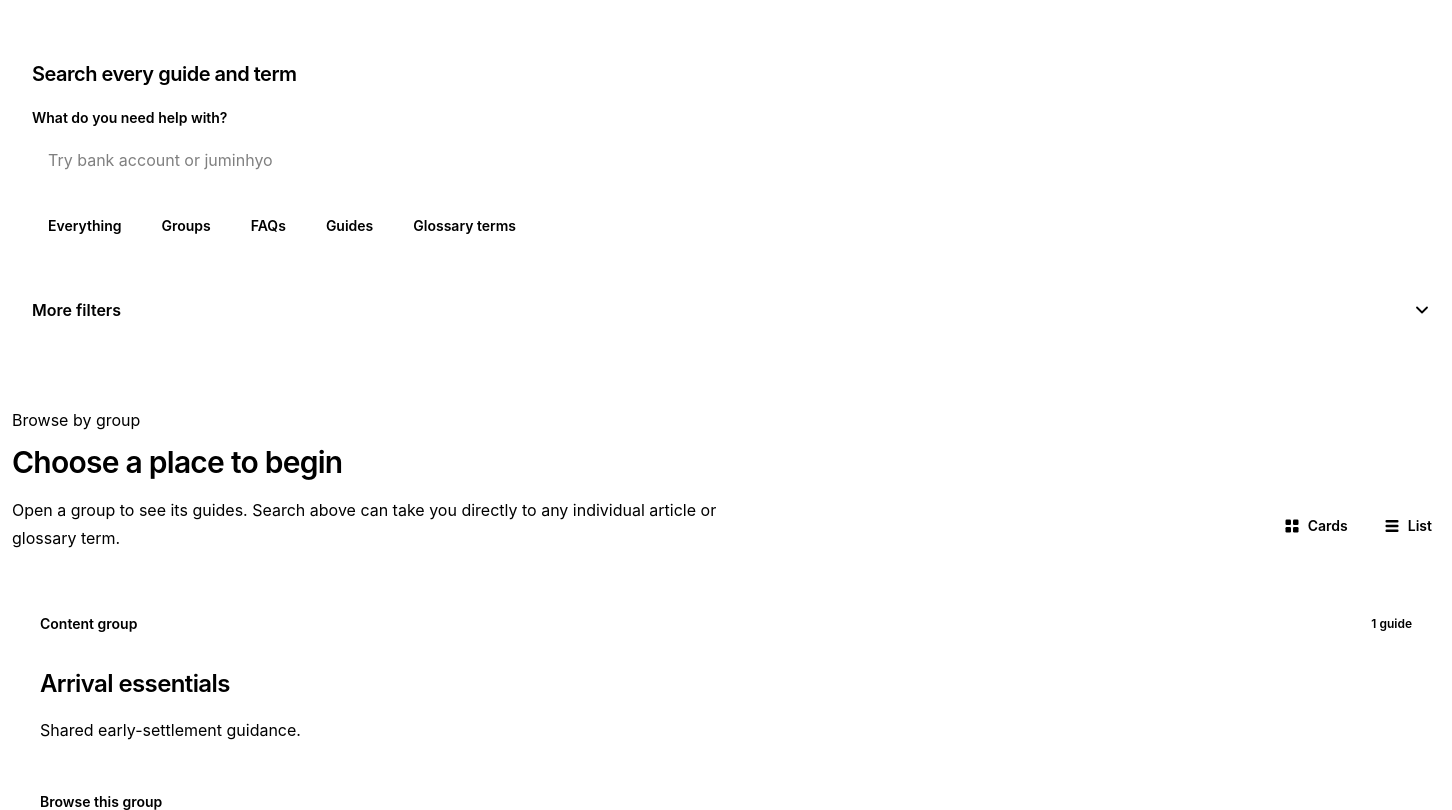
ExploreDiscovery › keeps the view toggle available when a search has no results
This screenshot has width=1452, height=810.
Step 1. Type "zzzz-no-such-guidance" into the search field → (732, 160), box [32,136,1432,184]
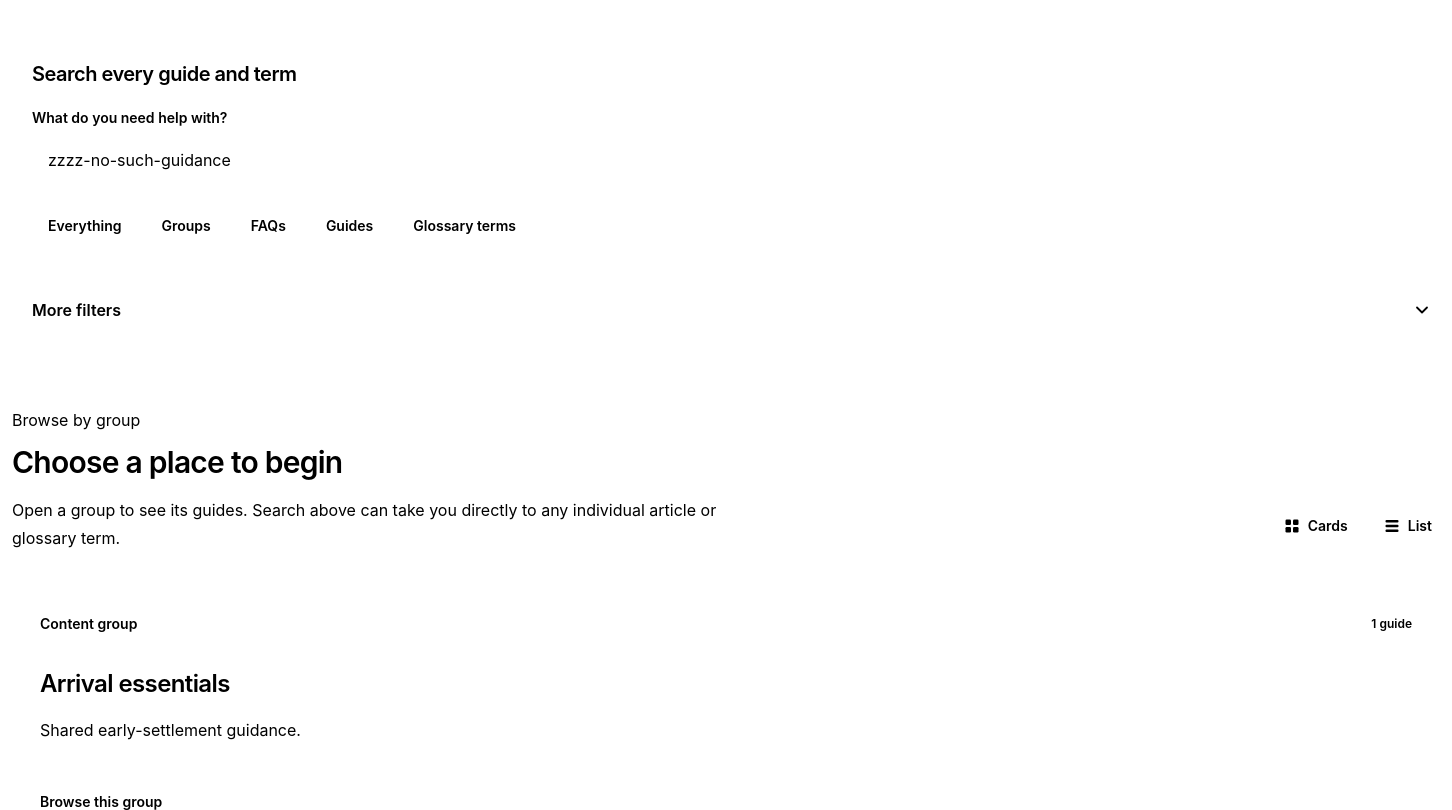
Step 2. Leave the search field, box [32,136,1432,184]
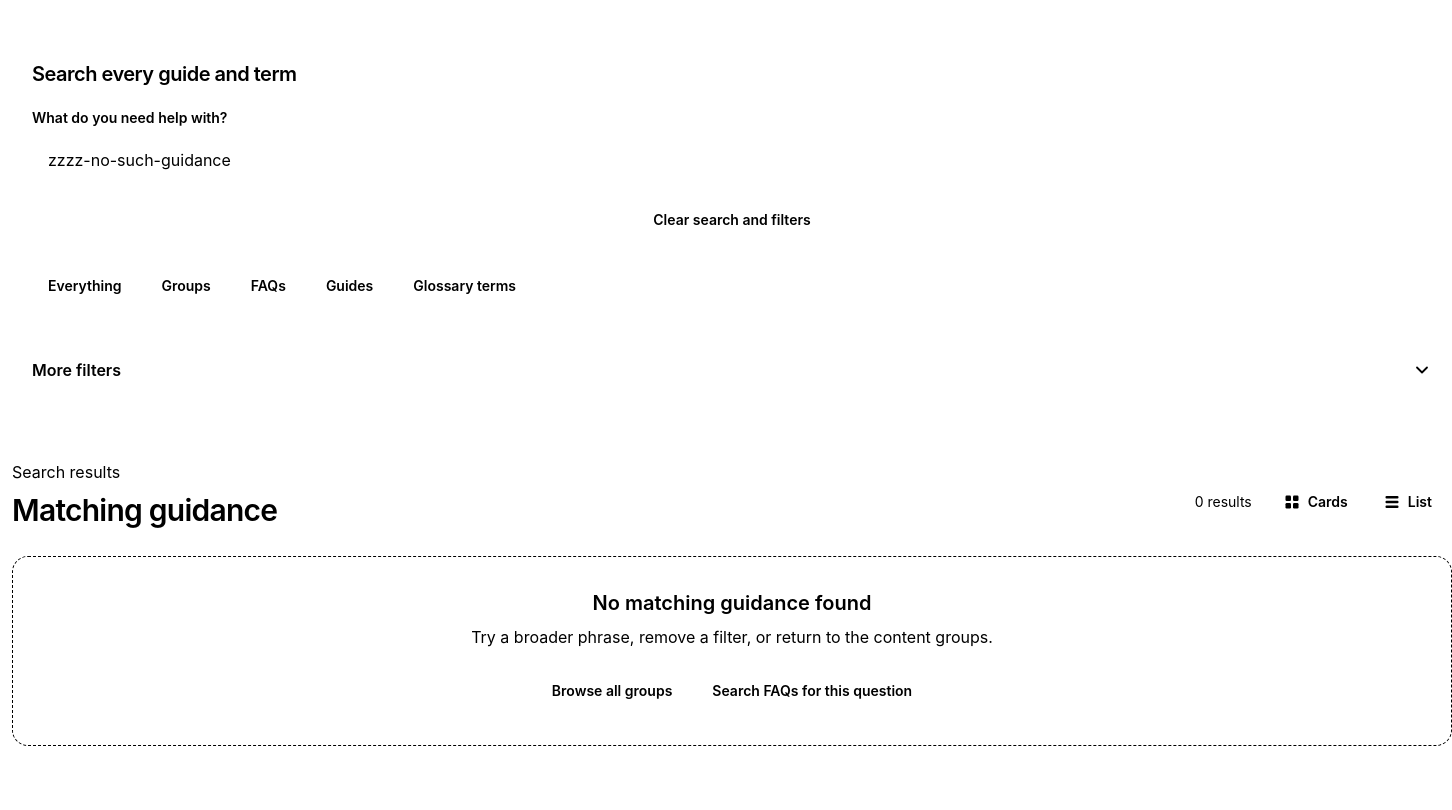
Expected: the element named "Display as" is shown, [1264,476,1451,528]
Result: the heading "No matching guidance found" is shown at [593,591,871,615]
